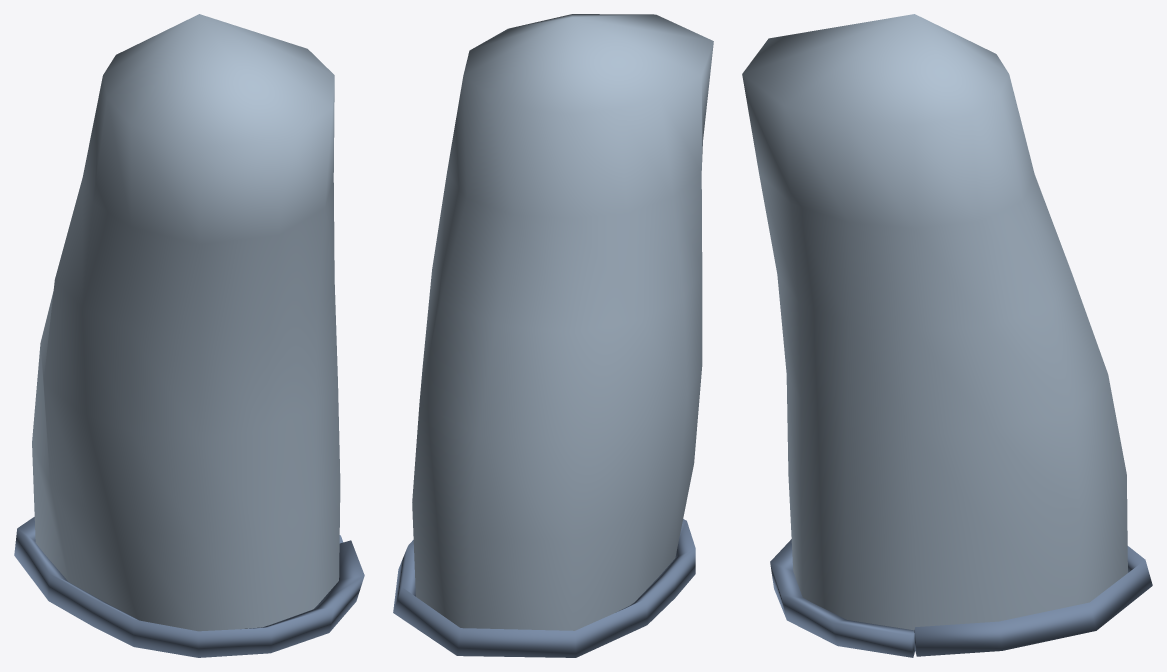
Rendered from titanium_armor_boot.R.glb.
3 renders of one model, left to right at view 1: azimuth 30°, elevation 25°; view 2: azimuth 150°, elevation 25°; view 3: azimuth 270°, elevation 25°, orthographic. The views are drawn at different scales.
Visible parts, largest first — view 1: titanium_armor_boot.R; view 2: titanium_armor_boot.R; view 3: titanium_armor_boot.R.
Boxes of the visible parts, box(x1,y1,x2,y2) form: titanium_armor_boot.R: box(14, 14, 364, 657); titanium_armor_boot.R: box(393, 14, 713, 657); titanium_armor_boot.R: box(742, 14, 1152, 657).
Bounding box in the file's own units: 0.1433 × 0.2958 × 0.1912.
